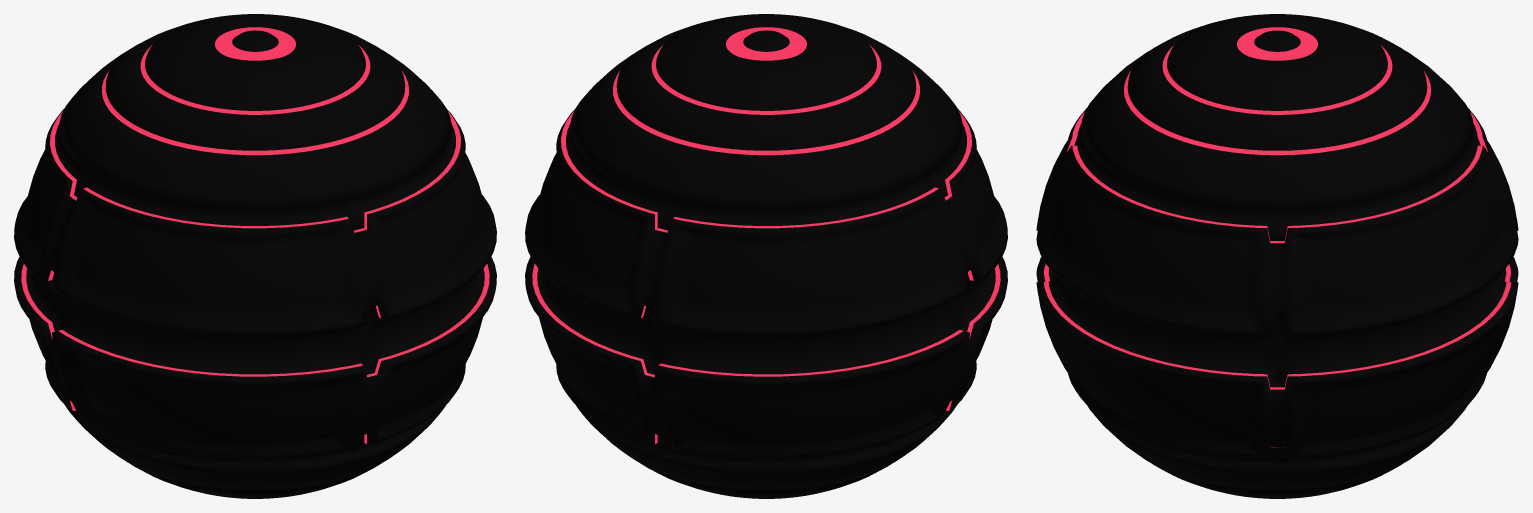
Rendered from Ball.glb.
3 renders of one model, left to right at view 1: azimuth 30°, elevation 25°; view 2: azimuth 150°, elevation 25°; view 3: azimuth 270°, elevation 25°, orthographic.
Visible parts, largest first — view 1: Sphere.001; view 2: Sphere.001; view 3: Sphere.001.
Part boxes in pixels (bbox=[...]): Sphere.001: bbox=[14, 14, 496, 498]; Sphere.001: bbox=[525, 14, 1007, 498]; Sphere.001: bbox=[1036, 14, 1518, 498].
Bounding box in the file's own units: 1.99 × 1.99 × 1.99.
